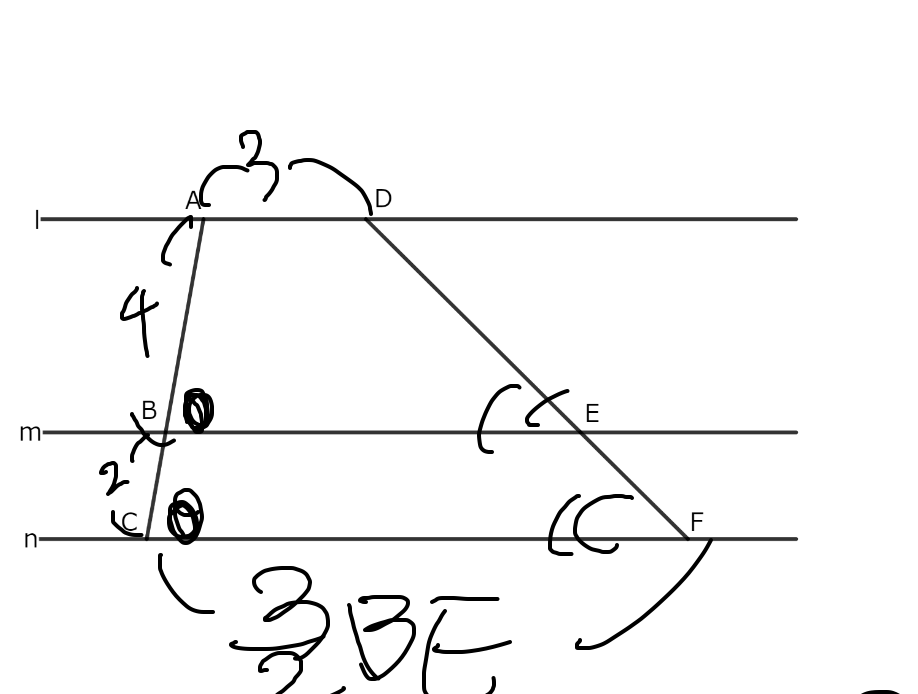Angle_Point: (158, 487, 212, 548), (179, 384, 215, 433)
Edge_Dparallel: (477, 377, 569, 452), (545, 484, 628, 560)
